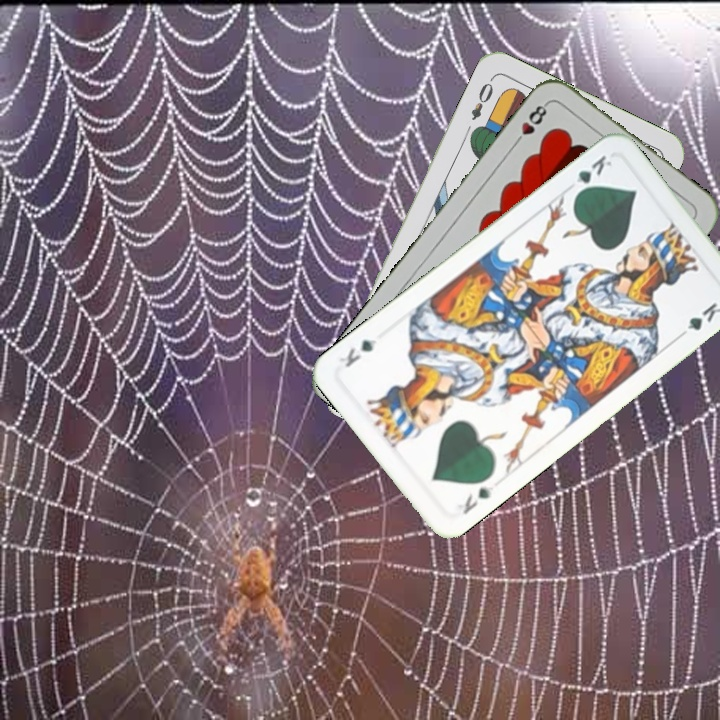EO: (467, 74, 496, 123)
GK: (570, 150, 615, 199), (458, 481, 497, 517)
H8: (509, 99, 551, 149)
